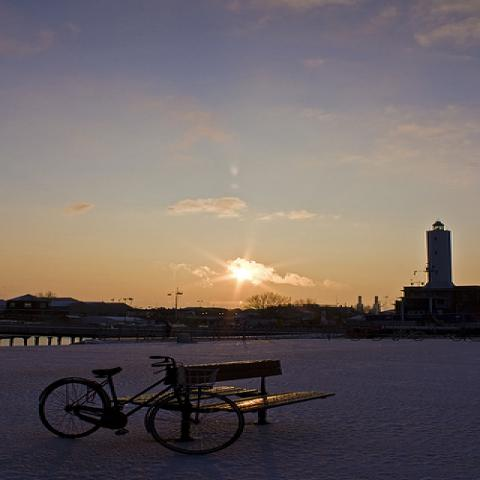car: (80, 317, 135, 326)
